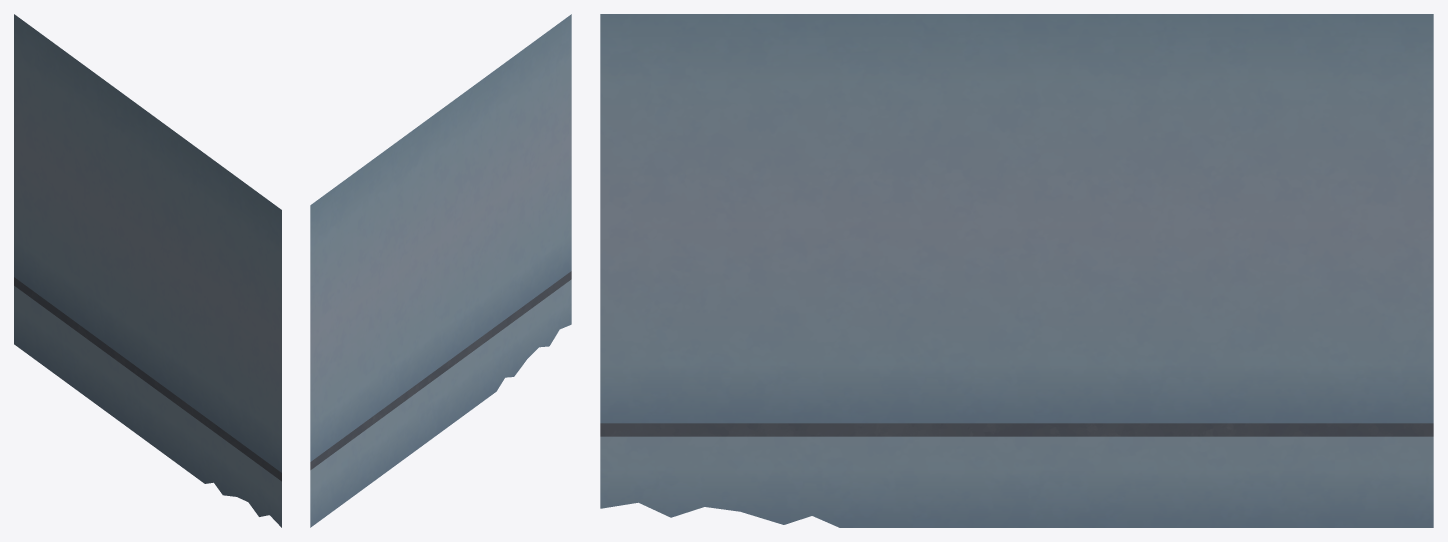
Rendered from SinkWall.fbx.
3 renders of one model, left to right at view 1: azimuth 30°, elevation 25°; view 2: azimuth 150°, elevation 25°; view 3: azimuth 270°, elevation 25°, orthographic. The views are drawn at different scales.
Parts seen in each view (by area): view 1: Floor_1:pCube36; view 2: Floor_1:pCube36; view 3: Floor_1:pCube36.
Boxes of the visible parts, left/top/right/bottom form: Floor_1:pCube36: left=14, top=14, right=281, bottom=527; Floor_1:pCube36: left=310, top=14, right=571, bottom=527; Floor_1:pCube36: left=600, top=14, right=1433, bottom=527.
Bounding box in the file's own units: 0 × 365 × 536.
Materials: 1 (1 with a texture image).
